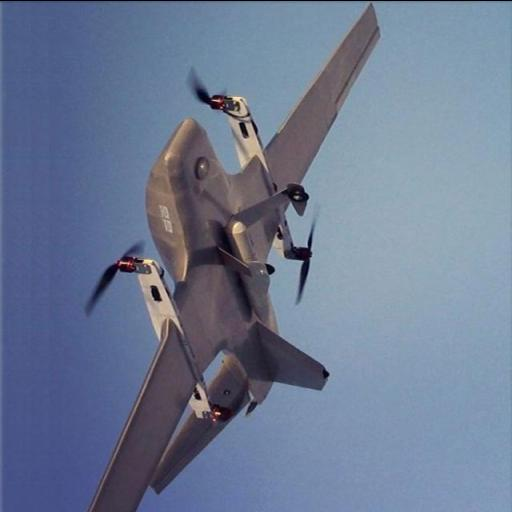uav: (30, 2, 406, 512)
